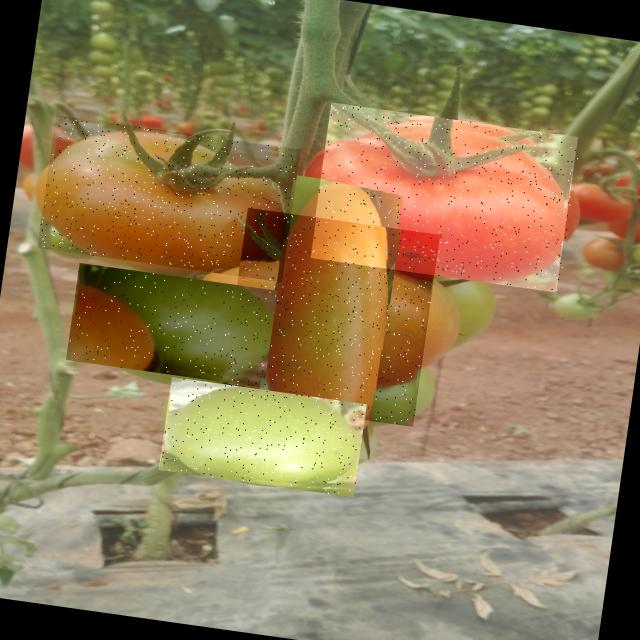Ripe Tomato: (310, 102, 581, 294), (37, 115, 300, 282)
Unripe Tomato: (221, 208, 440, 427), (66, 263, 278, 388), (158, 377, 366, 498)
